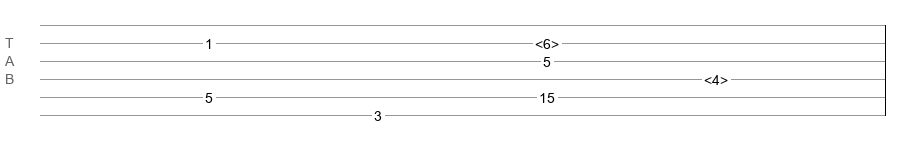1: (205, 36, 213, 46)
15: (539, 90, 555, 100)
3: (374, 108, 382, 118)
5: (205, 90, 213, 100), (543, 54, 551, 64)
harmonic: (535, 36, 559, 46), (704, 72, 728, 82)
